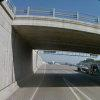Car: (76, 56, 100, 87)
